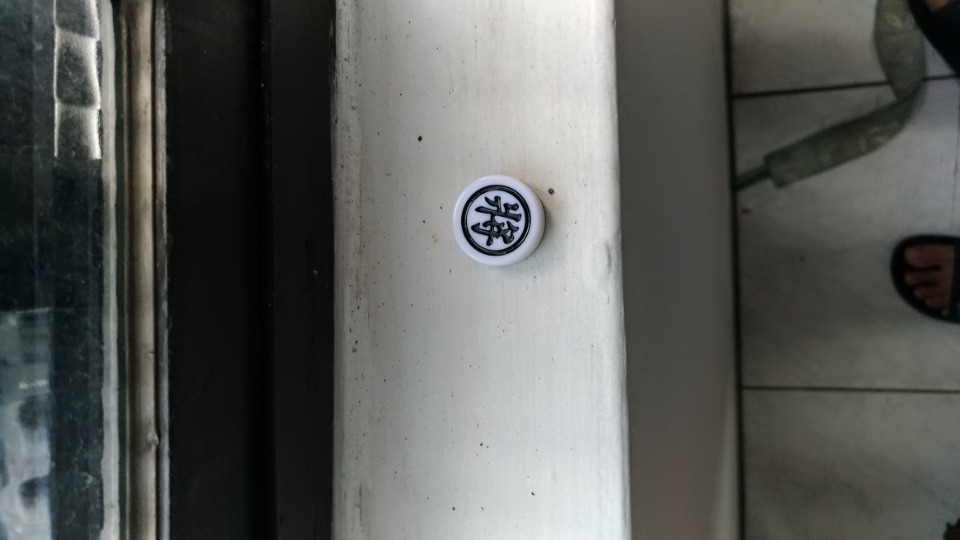b-king: (431, 168, 568, 272)
